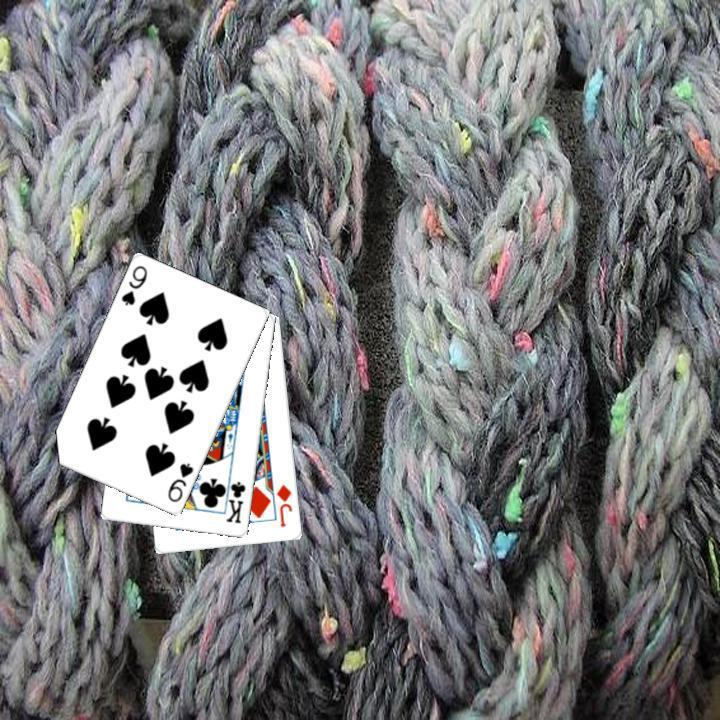9: (163, 459, 196, 505), (117, 261, 149, 308)
J: (273, 480, 294, 529)
K: (219, 472, 248, 525)
